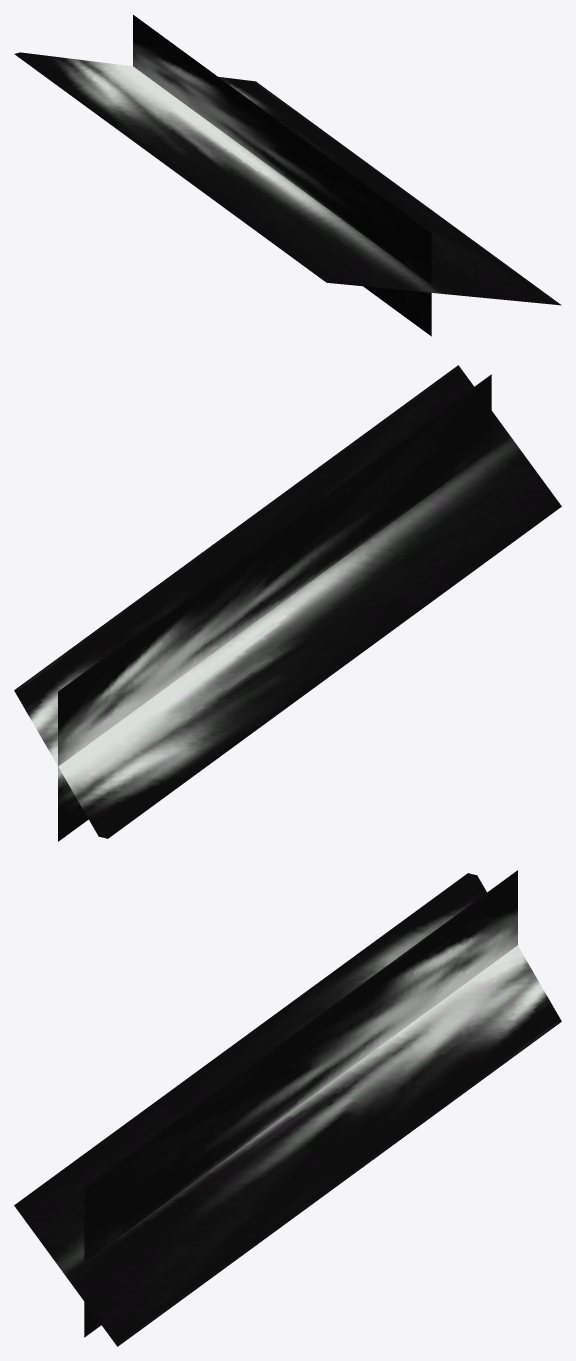
File: Fx_hero3007_plane_02.FBX
3 renders of one model, top to bottom at view 1: azimuth 30°, elevation 25°; view 2: azimuth 150°, elevation 25°; view 3: azimuth 330°, elevation 25°, orthographic. The views are drawn at different scales.
Parts seen in each view (by area): view 1: Plane002; view 2: Plane002; view 3: Plane002.
Boxes of the visible parts, left/top/right/bottom form: Plane002: left=14, top=15, right=561, bottom=336; Plane002: left=14, top=365, right=561, bottom=841; Plane002: left=14, top=870, right=561, bottom=1346.
Bounding box in the file's own units: 15.72 × 10.14 × 70.09.
Materials: 1 (1 with a texture image).
